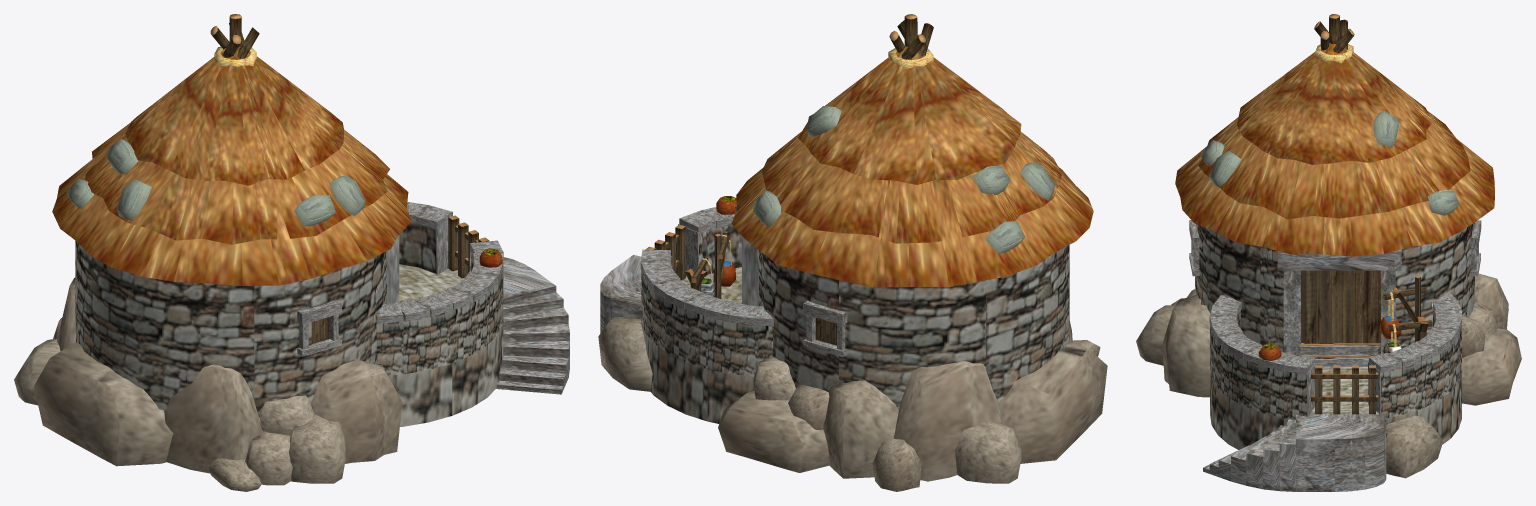
File: lusi_new_house_2.dae
3 views of the same model, side by side, from view 1: azimuth 30°, elevation 25°; view 2: azimuth 150°, elevation 25°; view 3: azimuth 270°, elevation 25° (orthographic). The views are drawn at different scales.
Visible parts, largest first — view 1: house_2; view 2: house_2; view 3: house_2.
Boxes of the visible parts, x1,y1,x2,y2 form: house_2: (14,14,569,491); house_2: (598,14,1107,491); house_2: (1136,14,1521,491).
Bounding box in the file's own units: 14.34 × 11.36 × 11.22.
